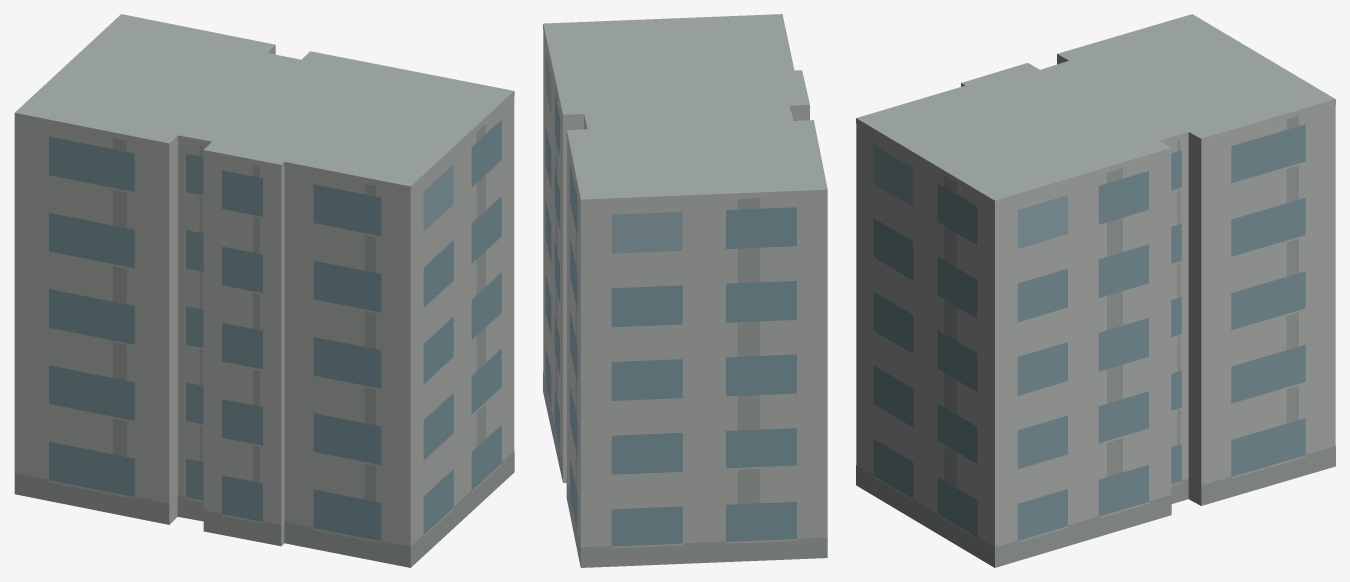
The model's file is survey-upis-32962951.glb.
3 renders of one model, left to right at view 1: azimuth 30°, elevation 25°; view 2: azimuth 150°, elevation 25°; view 3: azimuth 270°, elevation 25°, orthographic. The views are drawn at different scales.
Visible parts, largest first — view 1: survey-upis-32962951.tmp; view 2: survey-upis-32962951.tmp; view 3: survey-upis-32962951.tmp.
Part boxes in pixels (left/top/right/bottom): survey-upis-32962951.tmp: left=14, top=14, right=514, bottom=567; survey-upis-32962951.tmp: left=543, top=14, right=827, bottom=567; survey-upis-32962951.tmp: left=856, top=14, right=1335, bottom=567.
Size of the model in its own units: 17.23 by 15.8 by 18.71.
